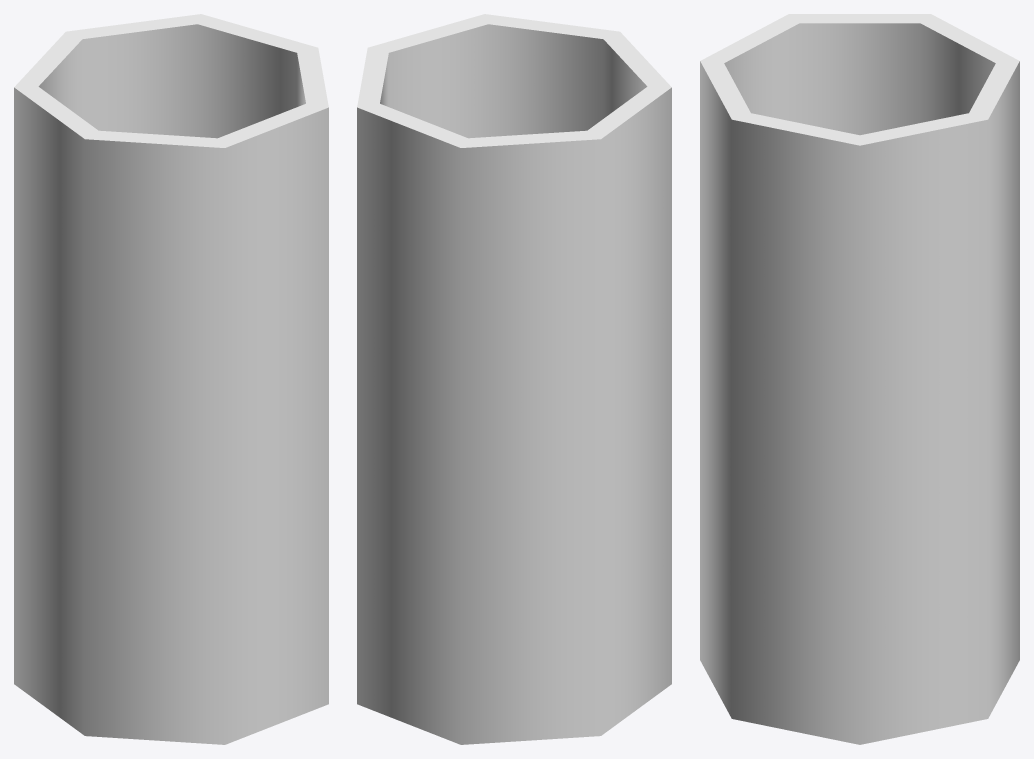
Rendered from glass_of_water1.dae.
3 views of the same model, side by side, from view 1: azimuth 30°, elevation 25°; view 2: azimuth 150°, elevation 25°; view 3: azimuth 270°, elevation 25° (orthographic).
Parts seen in each view (by area): view 1: glass_of_water001; view 2: glass_of_water001; view 3: glass_of_water001.
Part boxes in pixels (bbox=[...]): glass_of_water001: bbox=[14, 14, 328, 744]; glass_of_water001: bbox=[357, 14, 671, 744]; glass_of_water001: bbox=[700, 14, 1019, 744].
Size of the model in its own units: 2.23 by 2.28 by 4.72.
